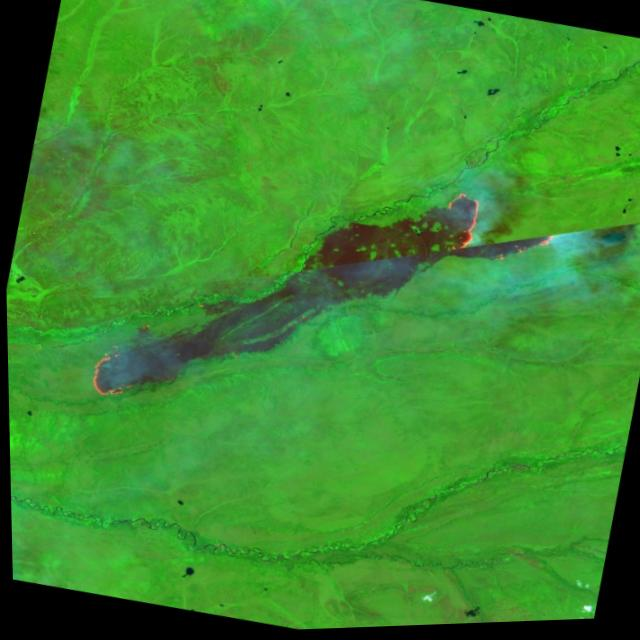fire: (434, 185, 565, 277), (83, 344, 134, 403)
